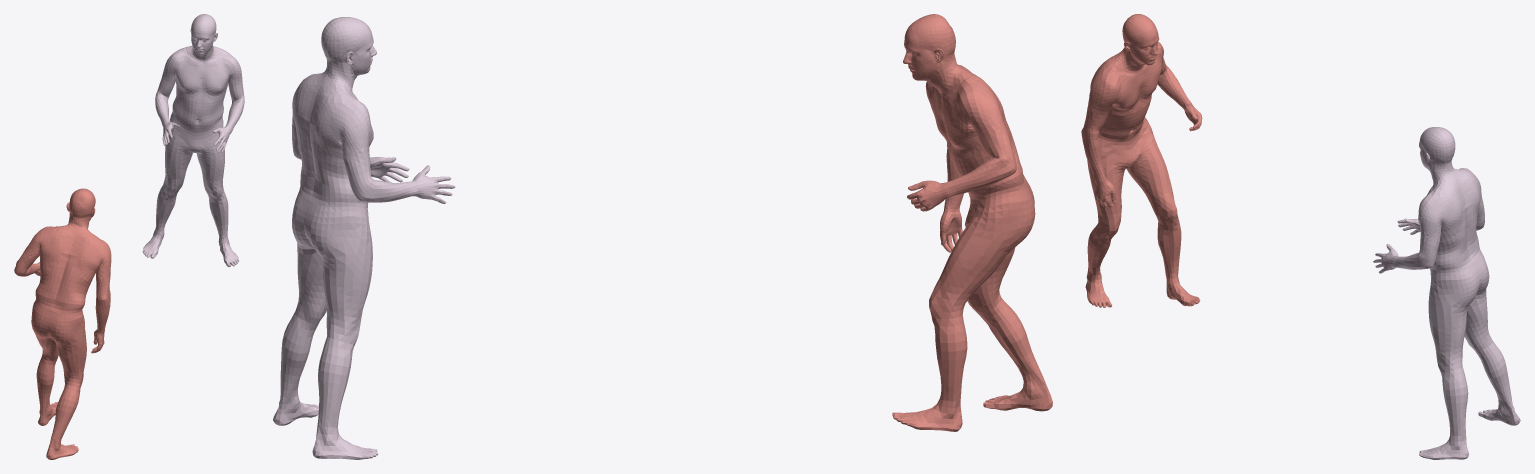
The model's file is frame_0000.glb.
The picture shows the model from 3 angles, left to right: view 1: azimuth 30°, elevation 25°; view 2: azimuth 150°, elevation 25°; view 3: azimuth 270°, elevation 25°; orthographic projection. The views are drawn at different scales.
Parts seen in each view (by area): view 1: human_1, human_2; view 2: human_2, human_1; view 3: human_2, human_1.
Part boxes in pixels (bbox=[...]): human_1: bbox=[14, 188, 111, 459]; human_2: bbox=[142, 14, 244, 266]; human_2: bbox=[273, 17, 455, 459]; human_1: bbox=[892, 14, 1052, 431]; human_2: bbox=[1373, 127, 1520, 459]; human_1: bbox=[1081, 14, 1202, 307].
Size of the model in its own units: 2.61 by 2.02 by 2.36.
